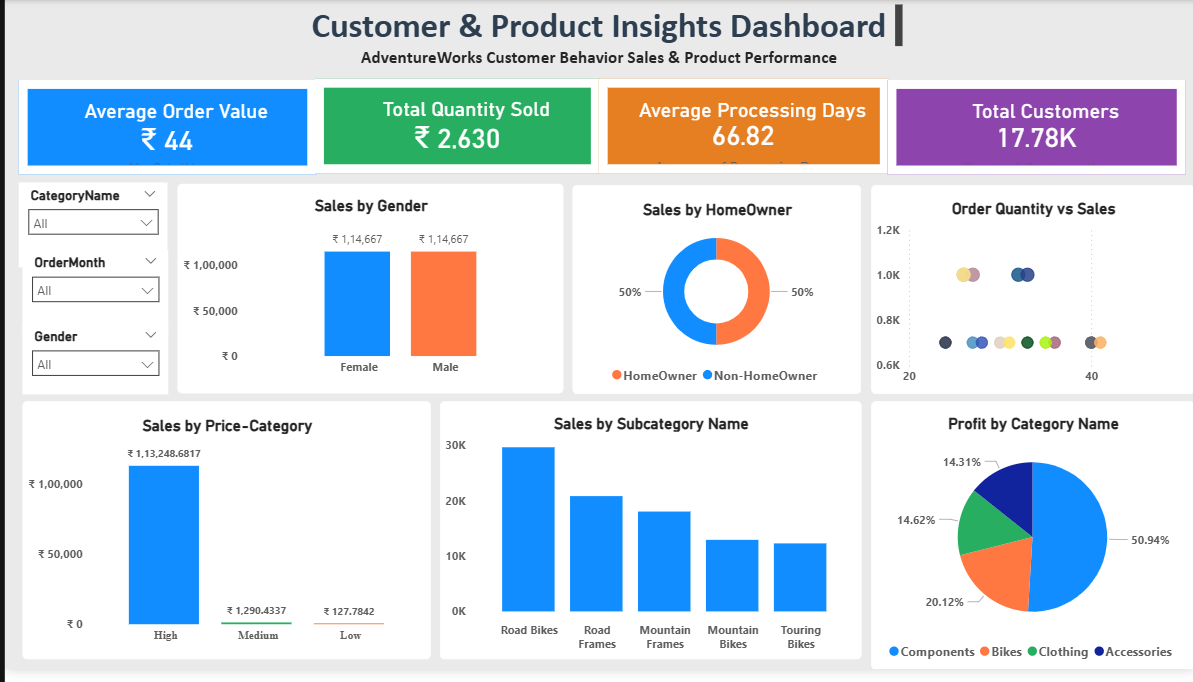

What the dashboard file says about the page in this screenshot:
{"tool":"powerbi","page":{"name":"Page 2","canvas":[1280,720],"ordinal":1},"visuals":[{"type":"textbox","box":[316.4,0,654.3,55.2],"z":0},{"type":"textbox","box":[363.5,45.8,552,49.8],"z":1000},{"type":"card","title":"Average Order Value","fields":{"Values":["customer_dataset customer.1Avg Order Value"]},"box":[15.1,86.4,319.7,101.5],"z":2000},{"type":"card","title":"Total Quantity Sold","fields":{"Values":["Sum(customer_dataset sales.OrderQuantity)"]},"box":[333.3,85,306.7,101.7],"z":3000},{"type":"card","title":"Average Processing Days","fields":{"Values":["Avg(customer_dataset sales.ProcessingDays)"]},"box":[638.3,85,311.7,101.7],"z":4000},{"type":"card","title":"Total Customers","fields":{"Values":["CountNonNull(customer_dataset customer.CustomerKey)"]},"box":[949.6,86.4,321.1,101.5],"z":5000},{"type":"slicer","fields":{"Values":["customer_dataset productcategories.CategoryName"]},"box":[15.4,196.5,160,91.2],"z":6000},{"type":"slicer","fields":{"Values":["customer_dataset sales.OrderMonth"]},"box":[18.2,269.5,157.2,91.2],"z":7000},{"type":"slicer","fields":{"Values":["customer_dataset customer.Gender"]},"box":[18.2,348.1,157.2,75.8],"z":8000},{"type":"clusteredColumnChart","title":"Sales  by Gender","fields":{"Category":["customer_dataset customer.Gender"],"Y":["Sum(customer_dataset product.SalesAmount)"]},"box":[185.3,197.9,415.4,226],"z":9000},{"type":"donutChart","title":"Sales by HomeOwner","fields":{"Y":["Sum(customer_dataset product.SalesAmount)"],"Category":["customer_dataset customer.HomeOwner"]},"box":[610.5,199.3,310.2,224.6],"z":10000},{"type":"scatterChart","title":"Order Quantity vs Sales","fields":{"X":["Sum(customer_dataset sales.OrderQuantity)"],"Y":["Sum(customer_dataset product.SalesAmount)"],"Size":["Sum(customer_dataset product.ProductPrice)"],"Series":["customer_dataset product.ProductKey"]},"box":[931.9,199.3,348.1,224.6],"z":11000},{"type":"clusteredColumnChart","title":" Sales by Price-Category","fields":{"Y":["Sum(customer_dataset product.SalesAmount)"],"Category":["customer_dataset product.PriceCategory"]},"box":[18.2,432.3,439.3,277.9],"z":12000},{"type":"clusteredColumnChart","title":"Sales by Subcategory Name","fields":{"Category":["customer_dataset productsubcategories.SubcategoryName"],"Y":["Sum(customer_dataset product.SalesAmount)"]},"box":[467.4,432.3,453.3,277.9],"z":13000},{"type":"pieChart","title":"Profit by Category Name","fields":{"Y":["Sum(customer_dataset product.ProfitMargin)"],"Category":["customer_dataset productcategories.CategoryName"]},"box":[932.3,431.8,347.7,288.8],"z":14000}]}

Visuals, with their boxes in screenshot pixels (x1, y1, x2, y2), scaled from the page's 1280x720 canvas onto the 1193x682 screenshot:
textbox: 295,0,905,52
textbox: 339,43,853,91
"Average Order Value" card: 14,82,312,178
"Total Quantity Sold" card: 311,81,596,177
"Average Processing Days" card: 595,81,885,177
"Total Customers" card: 885,82,1184,178
slicer - customer_dataset productcategories.CategoryName: 14,186,163,273
slicer - customer_dataset sales.OrderMonth: 17,255,163,342
slicer - customer_dataset customer.Gender: 17,330,163,402
"Sales  by Gender" clusteredColumnChart: 173,187,560,402
"Sales by HomeOwner" donutChart: 569,189,858,402
"Order Quantity vs Sales" scatterChart: 869,189,1192,402
" Sales by Price-Category" clusteredColumnChart: 17,409,426,673
"Sales by Subcategory Name" clusteredColumnChart: 436,409,858,673
"Profit by Category Name" pieChart: 869,409,1192,681
